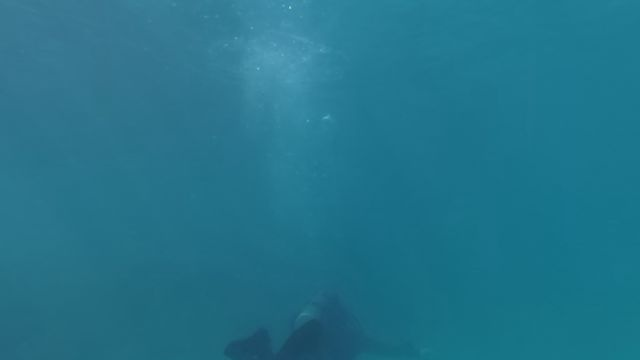Diver: (215, 273, 428, 359)
